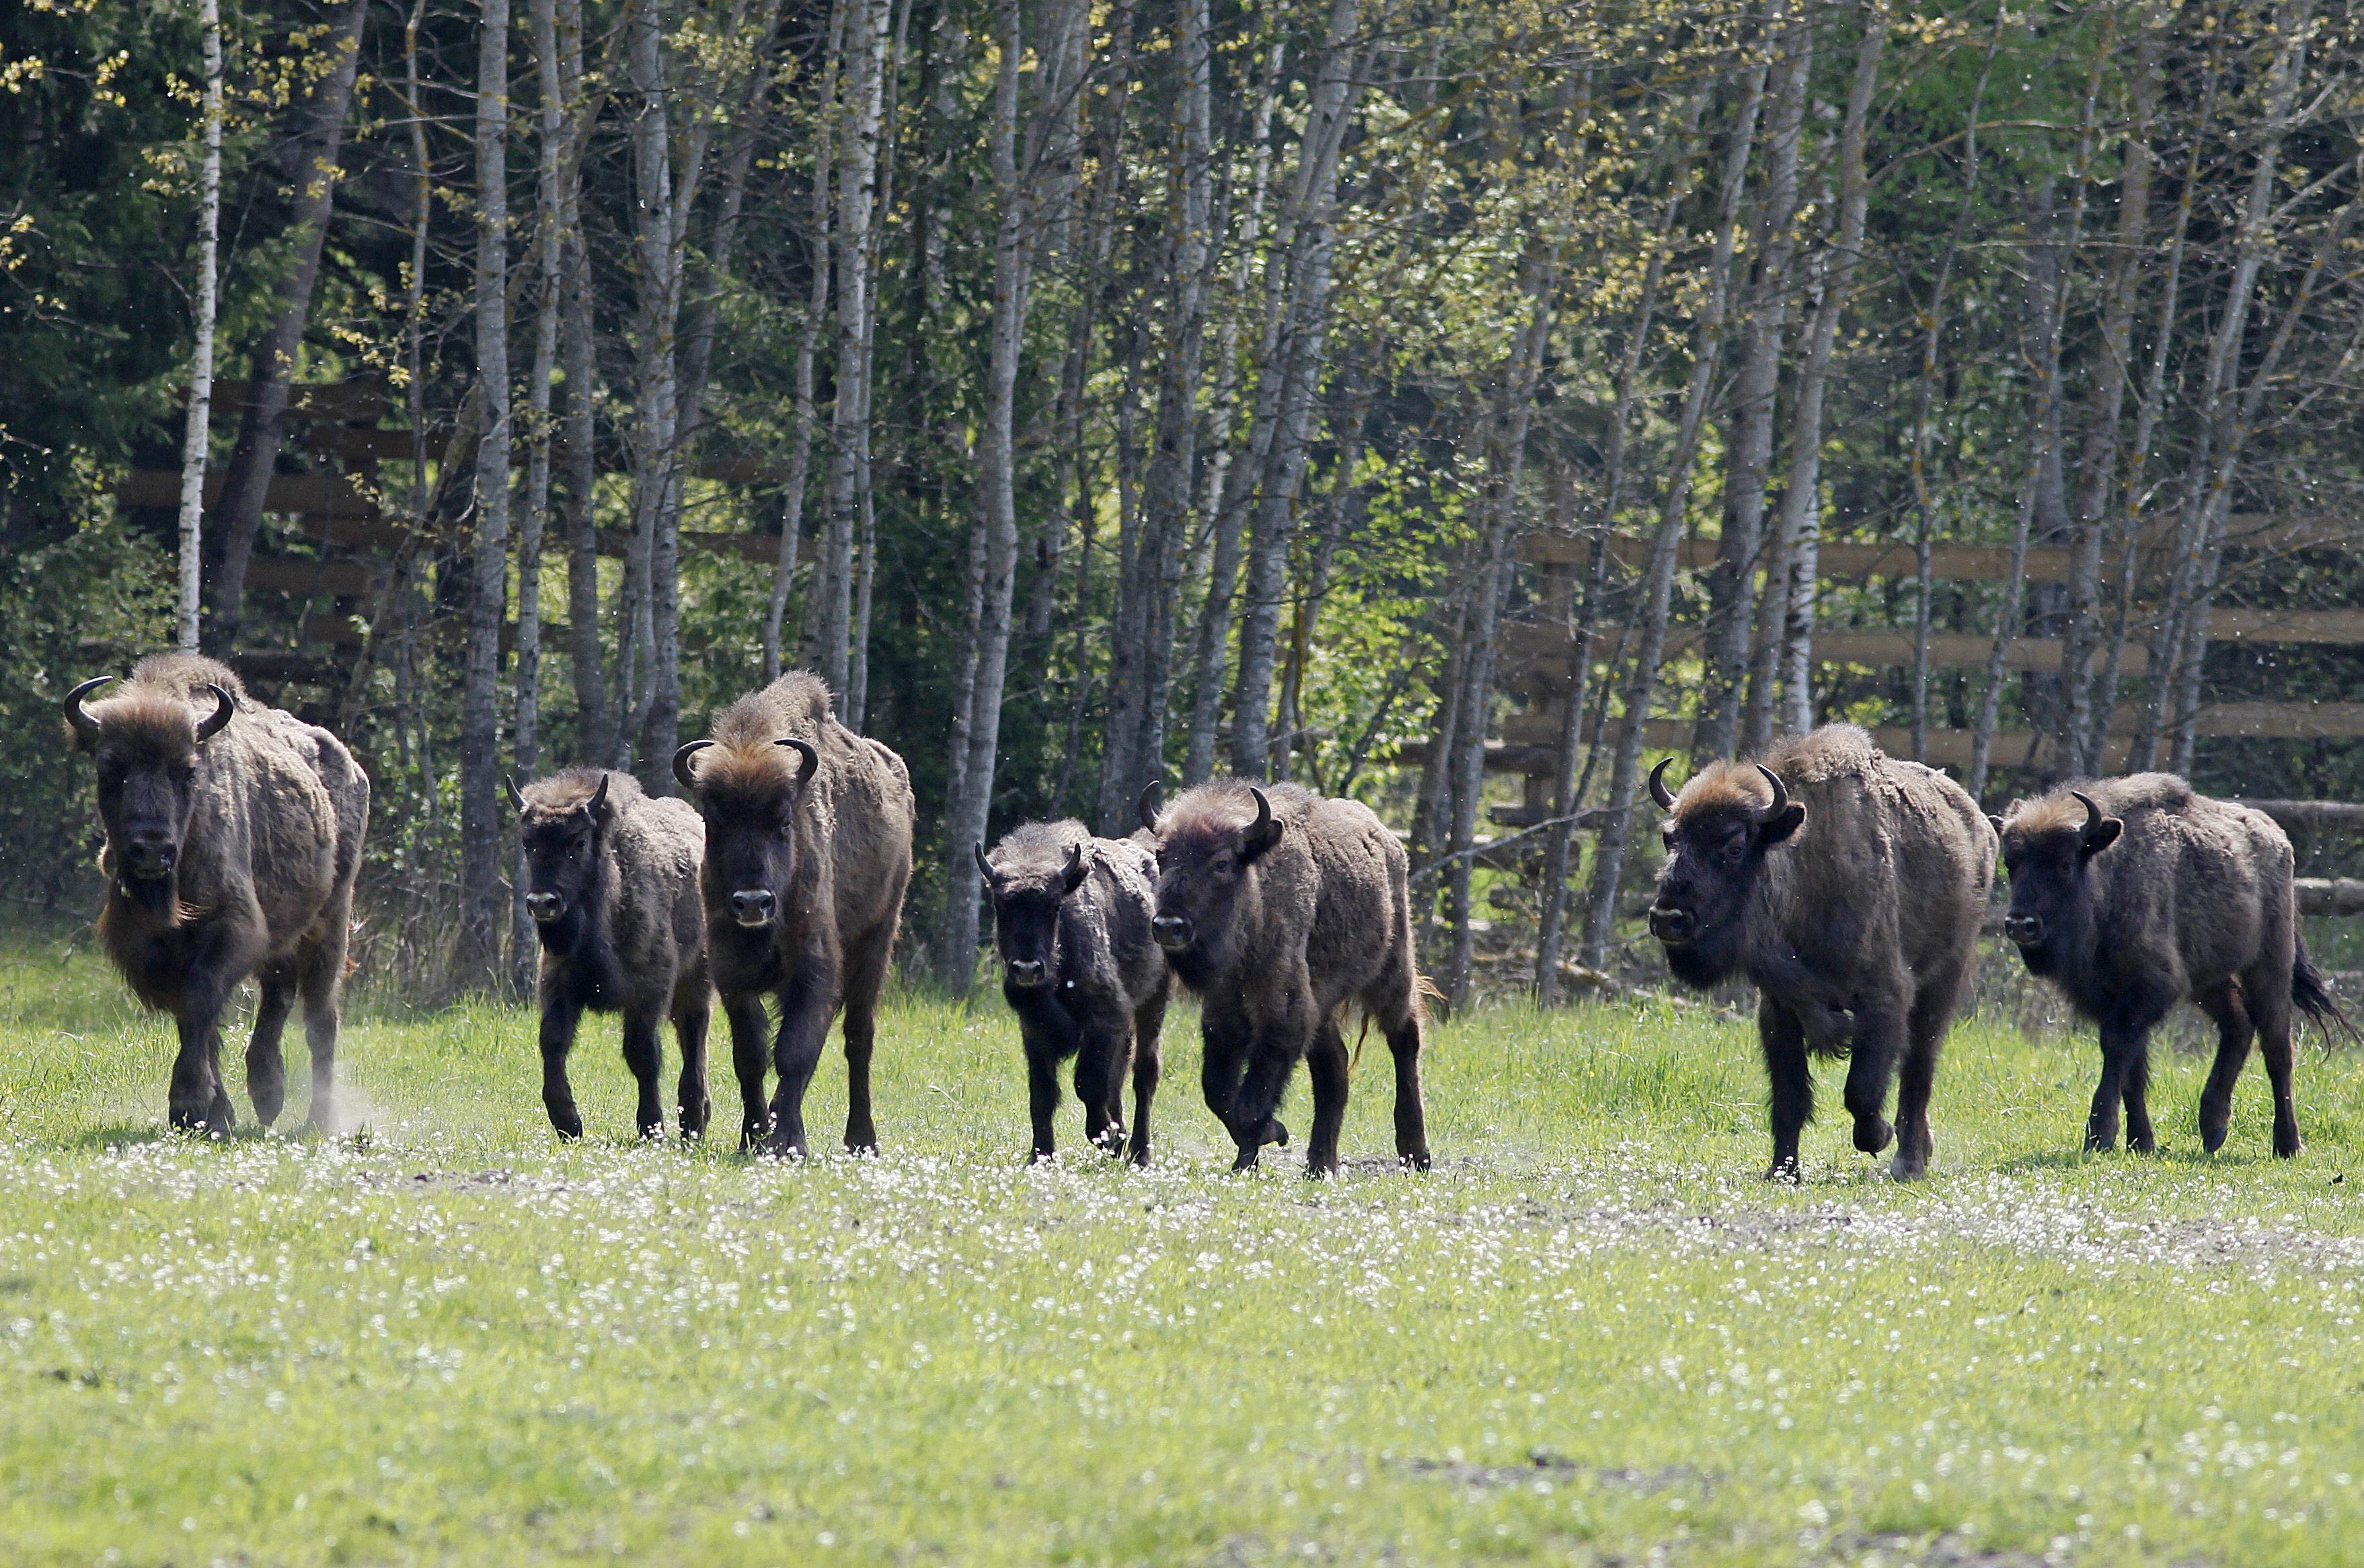zubr: (40, 607, 408, 1185), (1094, 682, 1512, 1185), (1636, 679, 2026, 1185), (1955, 742, 2364, 1153), (941, 714, 1242, 1230), (654, 639, 936, 1172), (465, 670, 735, 1216)
